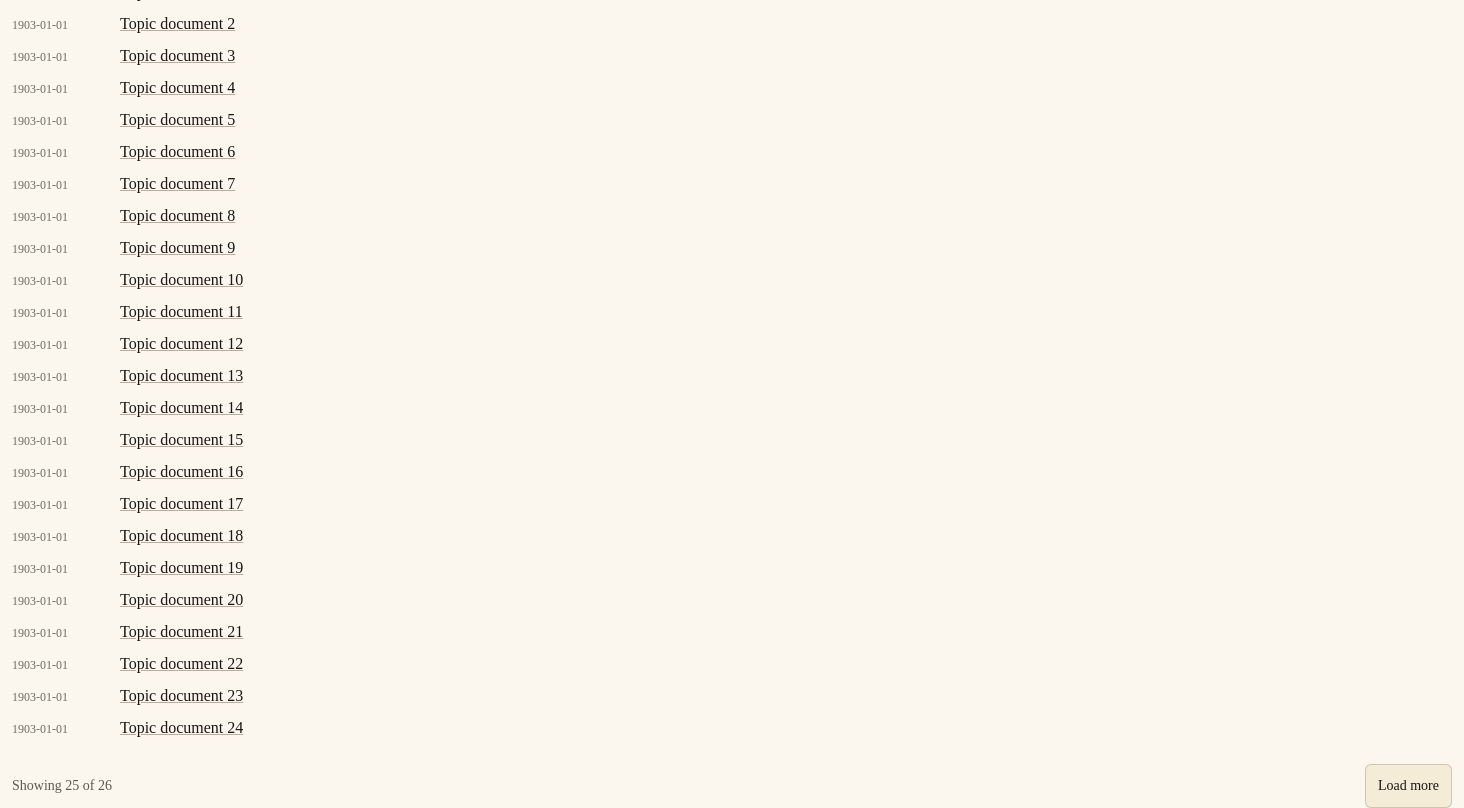
Test: TopicsPage › appends topic members with Load more
This screenshot has width=1464, height=808.
(page scrolled)
Step 1. Click the button "Load more" → (1408, 786), box x1=1365 y1=764 x2=1452 y2=807
(page scrolled)
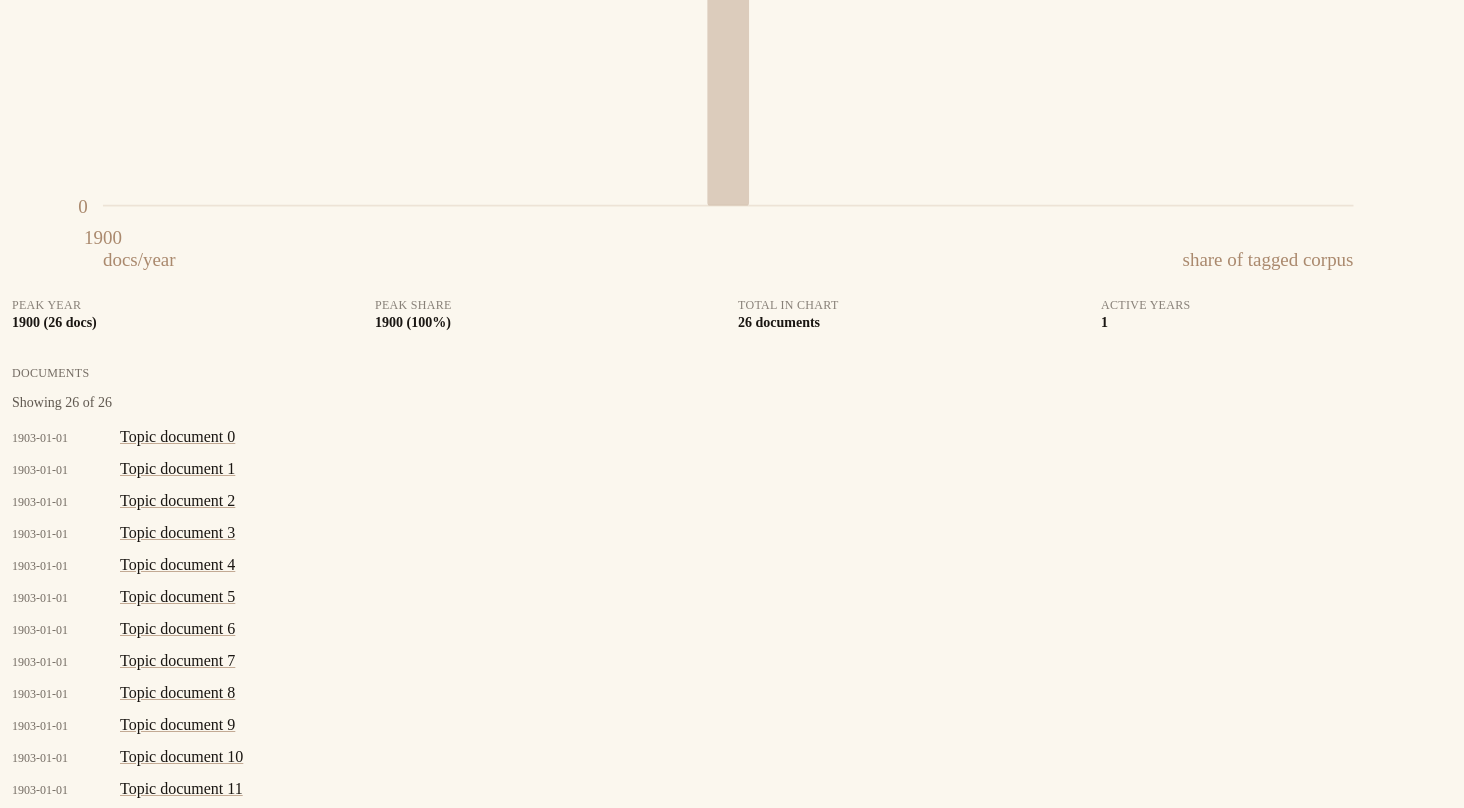
Now the text "Showing 26 of 26" is shown, box x1=12 y1=395 x2=112 y2=410
Now the button "Load more" is gone
